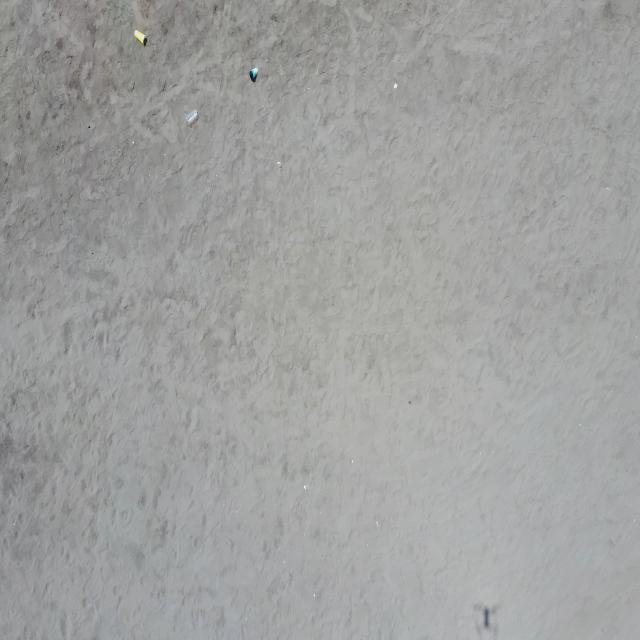takeaway-cup: (186, 108, 199, 125), (134, 29, 146, 46), (249, 67, 259, 79)
